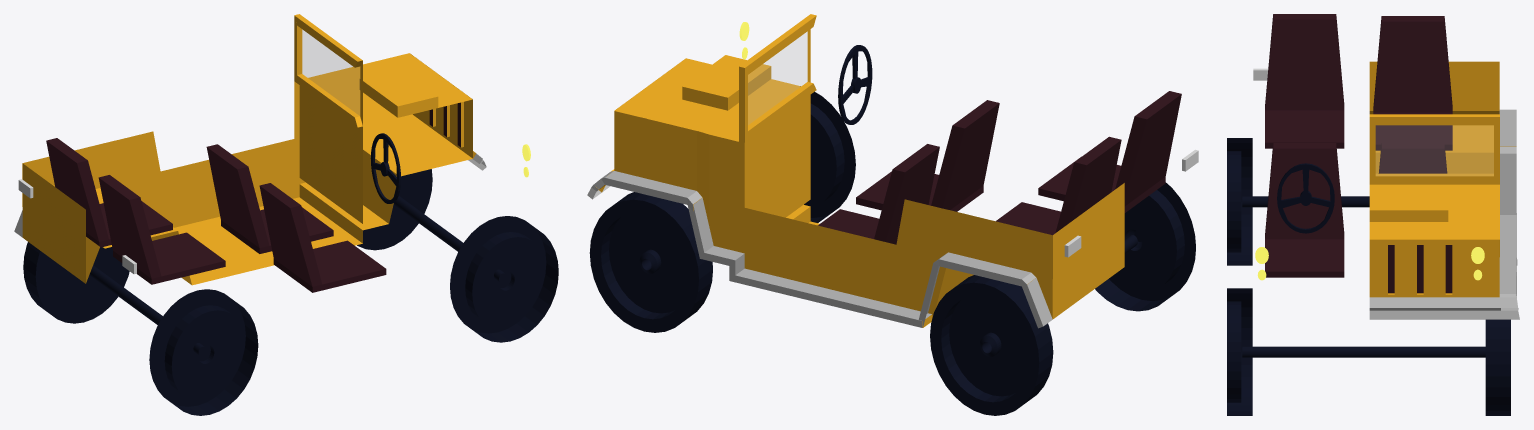
The model's file is jeep.glb.
3 views of the same model, side by side, from view 1: azimuth 30°, elevation 25°; view 2: azimuth 150°, elevation 25°; view 3: azimuth 270°, elevation 25° (orthographic). The views are drawn at different scales.
Parts seen in each view (by area): view 1: Plane.064, Circle.018, Circle.017, Plane.057, Plane.058, Plane.059, Circle, Plane.062, Plane.060, Plane.063, Circle.016, Circle.015; view 2: Plane.064, Plane.057, Circle, Circle.016, Plane.058, Circle.018, Plane.059, Plane.062, Circle.017, Plane.063, Plane.060, Circle.015; view 3: Plane.064, Plane.062, Plane.059, Plane.063, Circle.016, Circle.017, Circle.018, Plane.058, Plane.060, Circle.015, Circle.
Boxes of the visible parts, box(x1,y1,x2,y2) form: Plane.064: box(14, 14, 486, 285); Circle.018: box(149, 289, 258, 415); Circle.017: box(450, 216, 558, 342); Plane.057: box(114, 131, 294, 222); Plane.058: box(22, 140, 114, 283); Plane.059: box(259, 183, 386, 292); Circle: box(23, 242, 206, 356); Plane.062: box(98, 175, 225, 284); Plane.060: box(206, 144, 333, 253); Plane.063: box(46, 138, 172, 247); Circle.016: box(357, 169, 507, 283); Circle.015: box(370, 133, 400, 203); Plane.064: box(587, 14, 1052, 328); Plane.057: box(744, 199, 948, 311); Circle: box(930, 235, 1137, 415); Circle.016: box(589, 192, 712, 332); Plane.058: box(948, 183, 1124, 319); Circle.018: box(1095, 182, 1195, 311); Plane.059: box(856, 100, 999, 211); Plane.062: box(1038, 91, 1181, 212); Circle.017: box(800, 86, 855, 222); Plane.063: box(996, 136, 1121, 235); Plane.060: box(818, 144, 939, 244); Circle.015: box(838, 45, 872, 124); Plane.064: box(1369, 109, 1519, 319); Plane.062: box(1265, 14, 1344, 148); Plane.059: box(1265, 143, 1344, 277); Plane.063: box(1373, 16, 1452, 150); Circle.016: box(1242, 319, 1510, 415); Circle.017: box(1227, 288, 1252, 415); Circle.018: box(1227, 138, 1252, 265); Plane.058: box(1369, 61, 1499, 110); Plane.060: box(1378, 143, 1447, 173); Circle.015: box(1277, 163, 1334, 233); Circle: box(1242, 196, 1369, 207).
Size of the model in its own units: 3.71 by 2.14 by 2.23.
